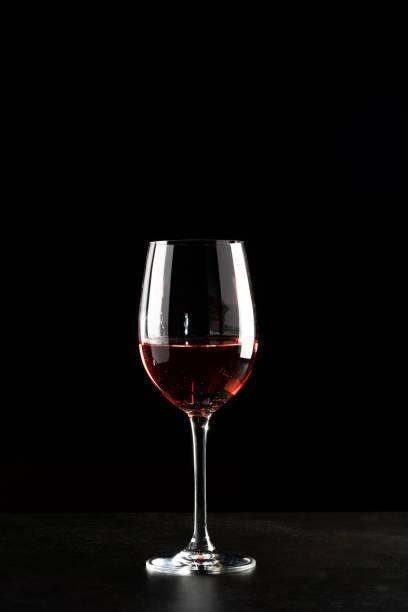glass-wine: (137, 238, 261, 578)
